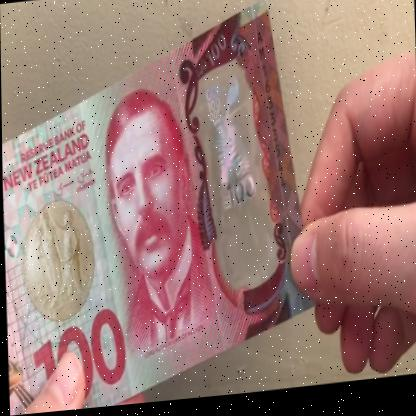100F: (203, 71, 268, 284)
